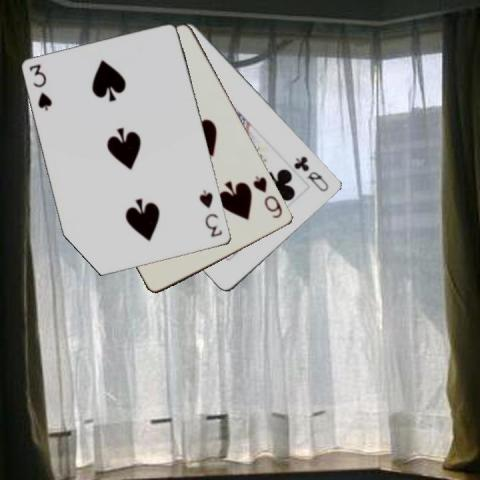3s: (197, 187, 224, 239), (27, 61, 54, 113)
6s: (250, 173, 285, 220)
Qc: (291, 154, 331, 194)
